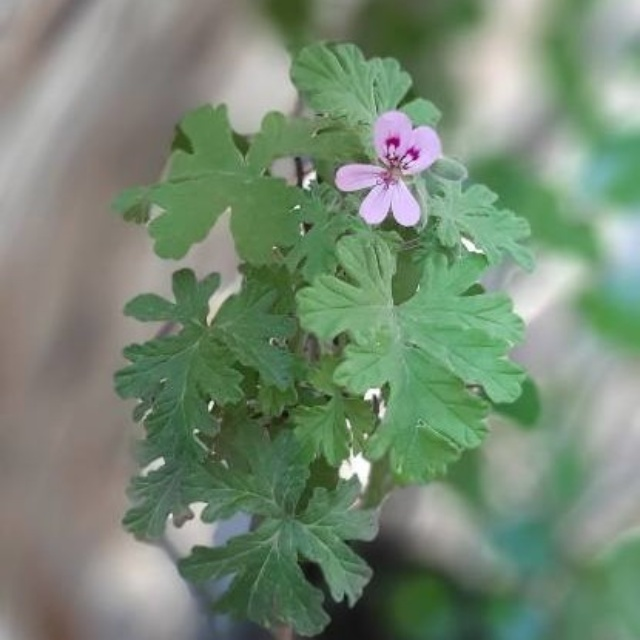obstacle: (108, 31, 527, 629)
